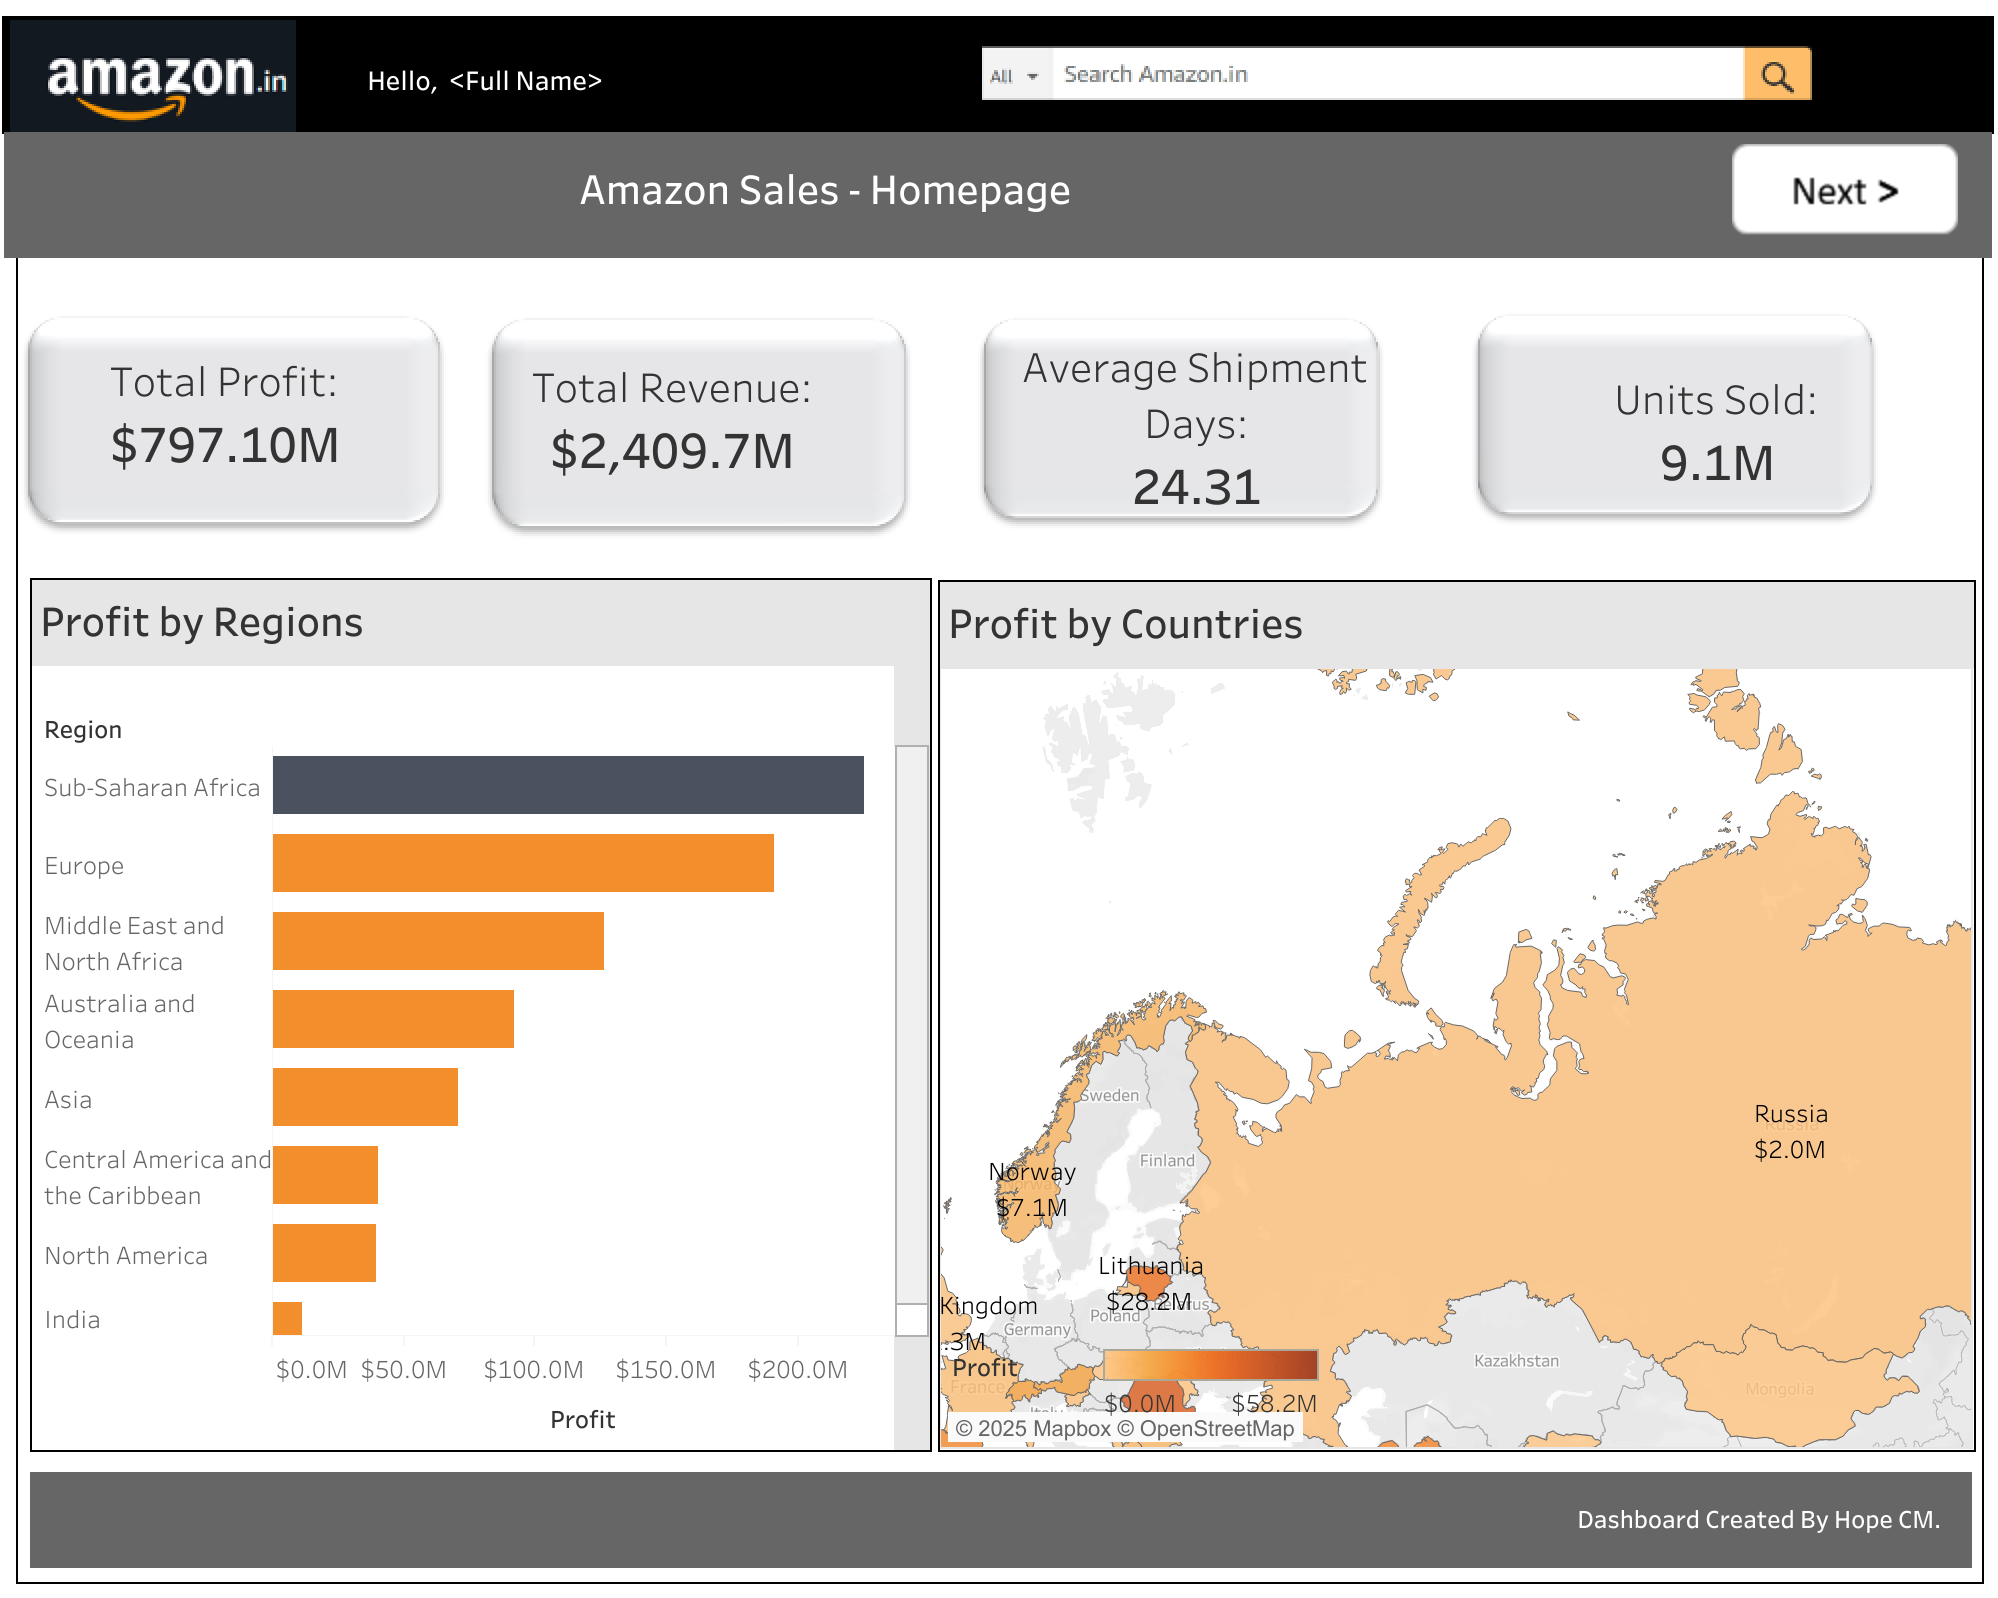

The dashboard page shown, as its layout file describes it:
{"tool":"tableau","page":{"name":"Welcome Page","canvas":[1000,800],"ordinal":0},"visuals":[{"type":"blank","box":[1,8,996,59]},{"type":"image","param":"Image/Amazon_logo.png","box":[1,10,151,56]},{"type":"image","param":"Image/search.png","box":[491,13,415,47]},{"type":"text","box":[181,21,205,37]},{"type":"blank","box":[2,66,994,63]},{"type":"dashboard-object","box":[859,70,115,50]},{"type":"text","box":[287,72,280,44]},{"type":"image","param":"Image/Picture5 1 1.png","box":[9,155,216,115]},{"type":"image","param":"Image/Picture5 1.png","box":[730,155,216,109]},{"type":"image","param":"Image/Picture5 1.png","box":[240,157,219,114]},{"type":"image","param":"Image/Picture5 1.png","box":[457,157,268,109]},{"type":"worksheet","title":"Shipment Days","mark":"Automatic","box":[497,166,203,97]},{"type":"worksheet","title":"Revenue","mark":"Automatic","box":[242,167,190,86]},{"type":"worksheet","title":"Total Profit","mark":"Automatic","box":[22,168,182,79]},{"type":"worksheet","title":"Unit Sold","mark":"Automatic","box":[772,176,174,80]},{"type":"worksheet","title":"Profit by Regions","mark":"Automatic","rows":["Region"],"cols":["Calculation_1012535868351574016"],"box":[15,289,451,434]},{"type":"worksheet","title":"Profit by Countries","mark":"Multipolygon","box":[469,291,519,435]},{"type":"legend","title":"Profit by Countries","param":"[federated.1d8d8hl1fo6dog111bsyy1bqdurf].[sum:Calculation_1012535868351574016:qk","box":[476,671,188,37]}]}

Visuals, with their boxes in screenshot pixels (x1, y1, x2, y2):
blank: {"left": 0, "top": 6, "right": 1997, "bottom": 126}
image: {"left": 0, "top": 10, "right": 289, "bottom": 124}
image: {"left": 982, "top": 16, "right": 1829, "bottom": 112}
text: {"left": 349, "top": 32, "right": 767, "bottom": 108}
blank: {"left": 0, "top": 124, "right": 1997, "bottom": 253}
dashboard-object: {"left": 1733, "top": 132, "right": 1968, "bottom": 235}
text: {"left": 565, "top": 137, "right": 1137, "bottom": 226}
image: {"left": 0, "top": 306, "right": 439, "bottom": 541}
image: {"left": 1469, "top": 306, "right": 1910, "bottom": 529}
image: {"left": 469, "top": 310, "right": 916, "bottom": 543}
image: {"left": 912, "top": 310, "right": 1459, "bottom": 533}
"Shipment Days" worksheet: {"left": 994, "top": 328, "right": 1408, "bottom": 526}
"Revenue" worksheet: {"left": 473, "top": 331, "right": 861, "bottom": 506}
"Total Profit" worksheet: {"left": 24, "top": 333, "right": 396, "bottom": 494}
"Unit Sold" worksheet: {"left": 1555, "top": 349, "right": 1910, "bottom": 512}
"Profit by Regions" worksheet: {"left": 10, "top": 580, "right": 931, "bottom": 1466}
"Profit by Countries" worksheet (Multipolygon marks): {"left": 937, "top": 584, "right": 1996, "bottom": 1472}
"Profit by Countries" legend: {"left": 951, "top": 1359, "right": 1335, "bottom": 1435}
